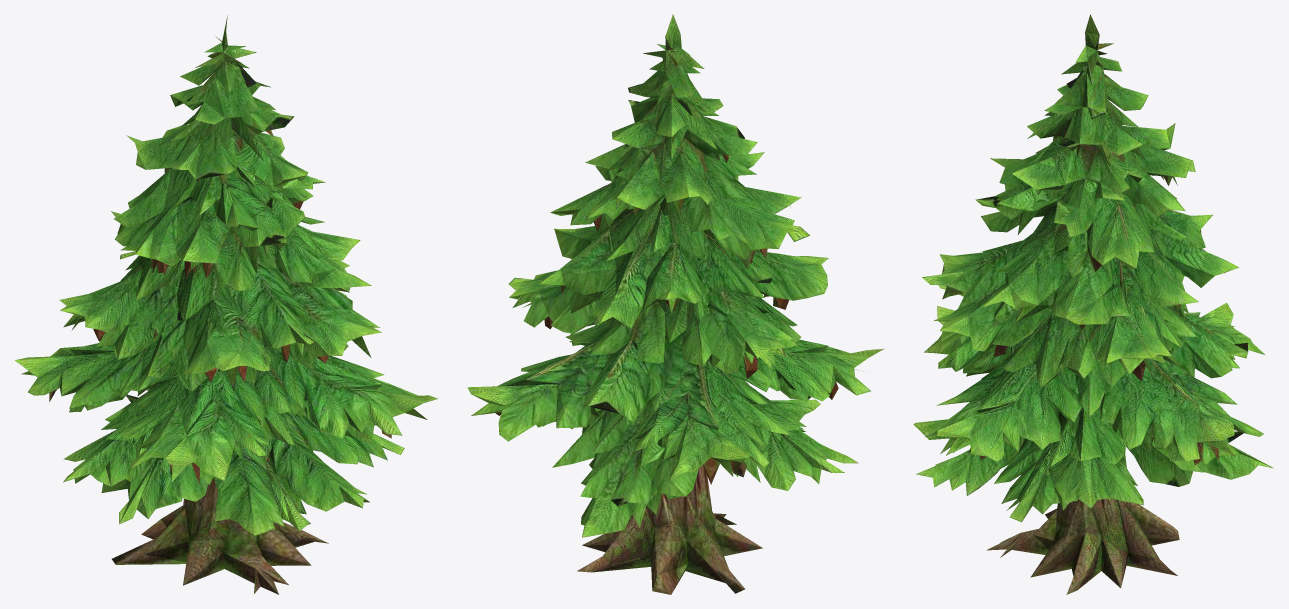
Rendered from conifer.glb.
3 renders of one model, left to right at view 1: azimuth 30°, elevation 25°; view 2: azimuth 150°, elevation 25°; view 3: azimuth 270°, elevation 25°, orthographic.
Parts seen in each view (by area): view 1: Mesh_0; view 2: Mesh_0; view 3: Mesh_0.
Part boxes in pixels (x1,y1,x2,y2): Mesh_0: (15,15,438,594); Mesh_0: (467,14,884,594); Mesh_0: (913,14,1273,594).
Bounding box in the file's own units: 0.6279 × 1 × 0.6092.
1 material, 1 textured.
